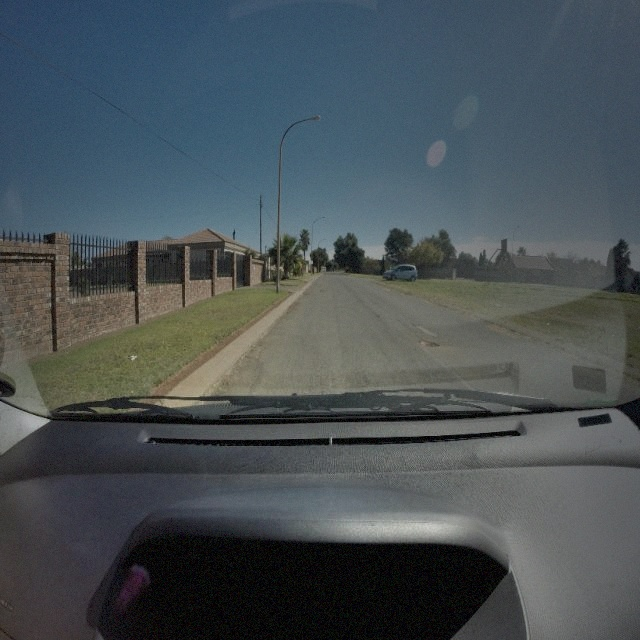pothole: (418, 336, 441, 347)
